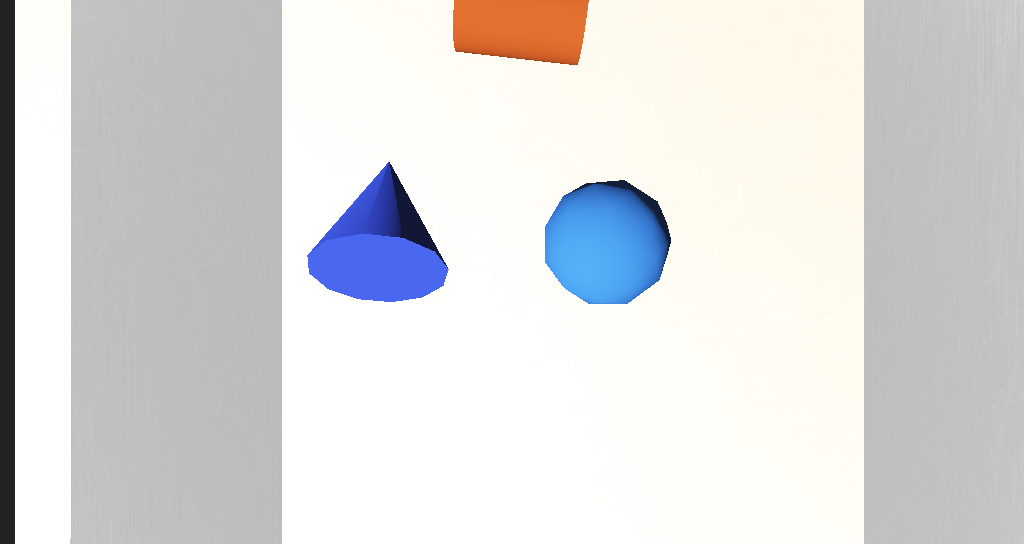cone: (445, 155, 512, 198)
cylinder: (374, 217, 448, 279)
sphere: (485, 234, 552, 282)
